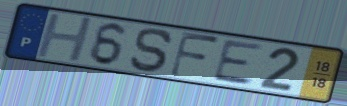2: (257, 47, 304, 94)
6: (88, 21, 129, 68)
E: (210, 39, 267, 87)
F: (167, 29, 222, 80)
H: (33, 12, 96, 64)
S: (127, 26, 176, 75)
